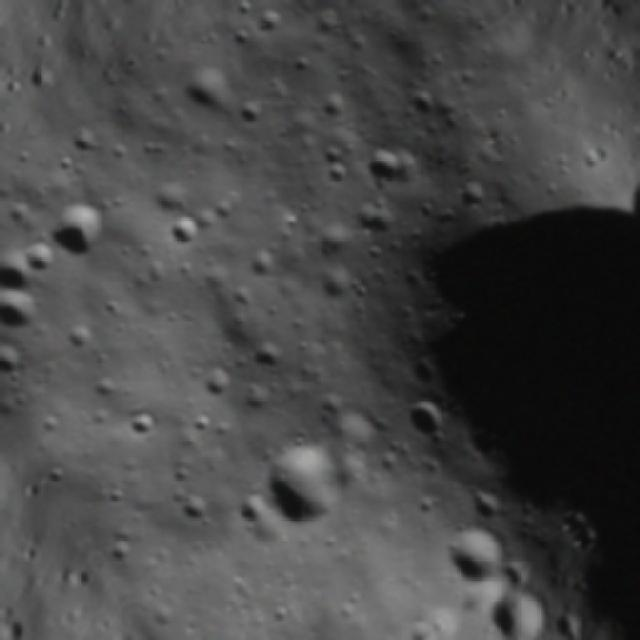crater: (241, 420, 370, 552), (38, 184, 136, 281), (436, 514, 519, 597), (171, 51, 251, 129), (387, 379, 462, 458), (348, 137, 415, 203), (0, 239, 49, 315), (168, 482, 226, 538), (190, 353, 248, 409), (310, 260, 367, 315), (0, 279, 48, 344), (21, 233, 73, 290), (161, 206, 213, 256), (448, 171, 499, 220), (246, 334, 296, 383), (113, 402, 162, 451), (396, 80, 442, 125), (472, 488, 510, 528)
